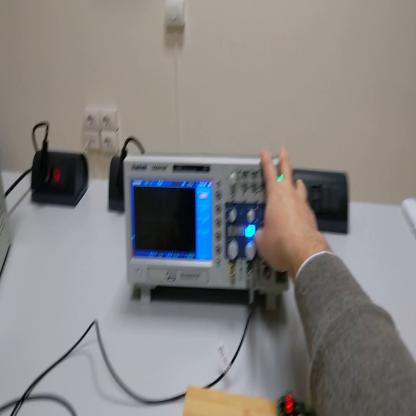hand: (254, 146, 320, 274)
low voltage board: (282, 391, 314, 413)
oscilloscope: (120, 158, 286, 316)
power supply: (1, 170, 14, 281)
socket: (32, 150, 90, 208), (110, 158, 124, 212)
working area: (183, 390, 281, 415)
